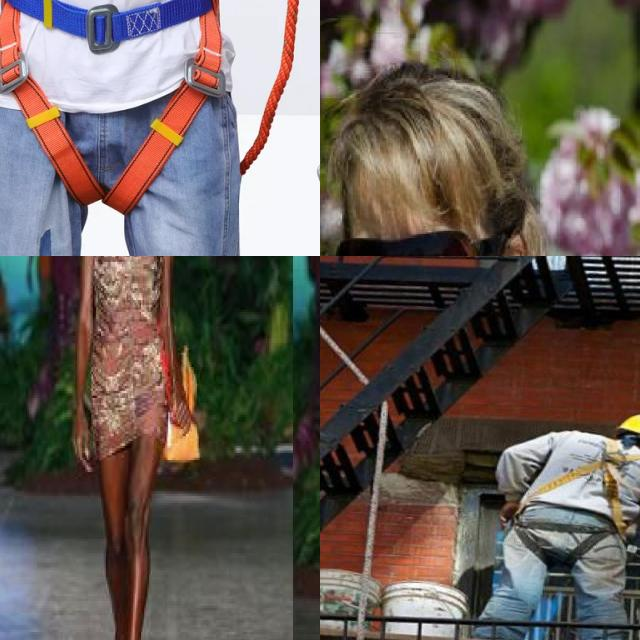Harness: (0, 0, 230, 216), (525, 437, 640, 534)
No_Ear-Protection: (488, 235, 537, 256)
glasses: (323, 225, 494, 256)
hand_noglove: (166, 380, 196, 440), (68, 410, 95, 474)
head_nohelmet: (332, 67, 521, 199)
person: (320, 61, 634, 256), (70, 256, 193, 640)
